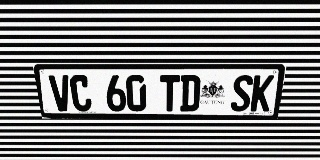0: (126, 75, 146, 111)
6: (105, 75, 127, 111)
C: (69, 75, 92, 111)
D: (180, 75, 201, 111)
K: (250, 75, 275, 111)
S: (230, 75, 254, 111)
T: (160, 75, 180, 111)
V: (48, 75, 73, 111)
